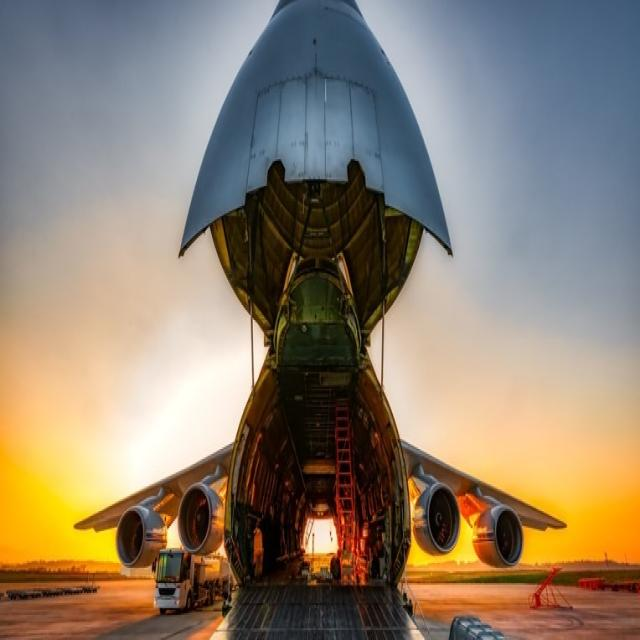C5: (39, 0, 610, 640)
